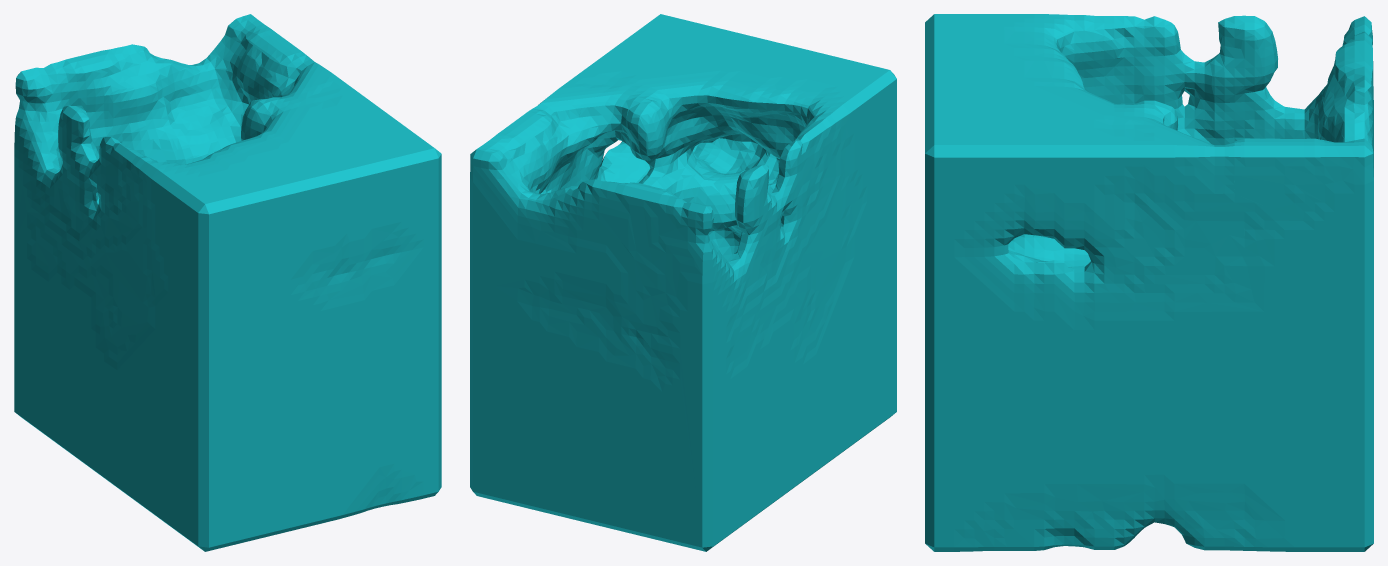
The picture shows the model from 3 angles, left to right: view 1: azimuth 30°, elevation 25°; view 2: azimuth 150°, elevation 25°; view 3: azimuth 270°, elevation 25°; orthographic projection. The views are drawn at different scales.
Visible parts, largest first — view 1: Liquid_Domain; view 2: Liquid_Domain; view 3: Liquid_Domain.
Part boxes in pixels (x1,y1,x2,y2): Liquid_Domain: [14, 14, 441, 551]; Liquid_Domain: [470, 14, 896, 551]; Liquid_Domain: [925, 14, 1373, 551].
Bounding box in the file's own units: 79.09 × 108 × 108.
